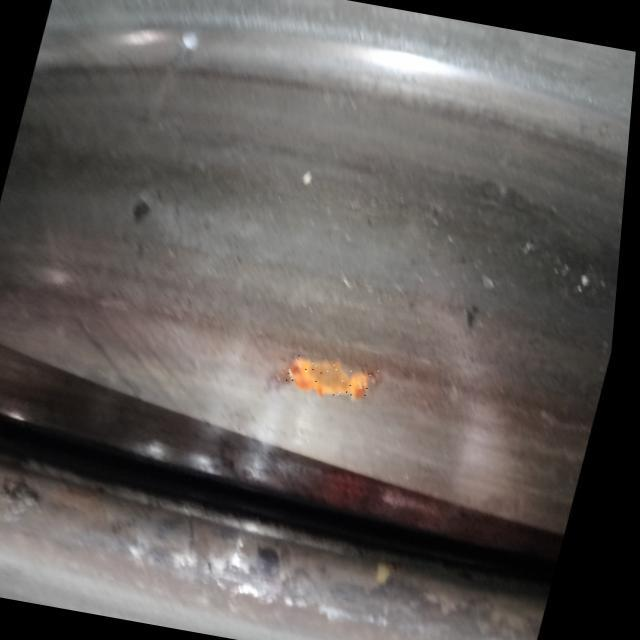Peeling: (279, 342, 407, 420)
